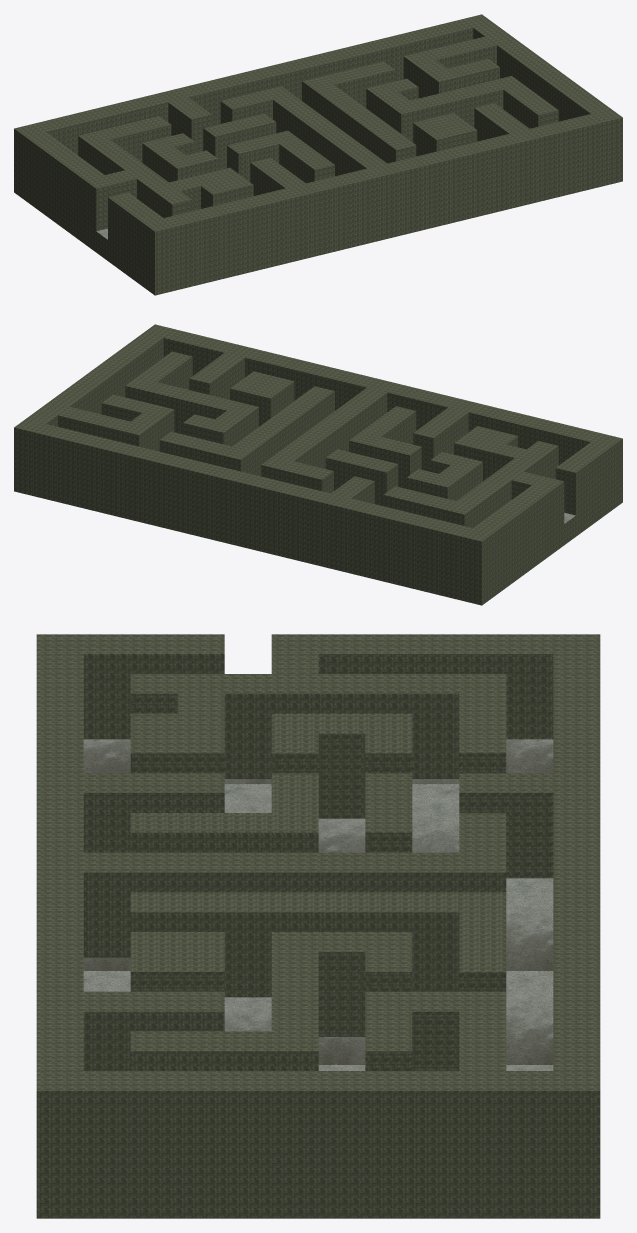
File: MapaVideojoc.fbx
The picture shows the model from 3 angles, top to bottom: view 1: azimuth 30°, elevation 25°; view 2: azimuth 150°, elevation 25°; view 3: azimuth 270°, elevation 25°; orthographic projection. The views are drawn at different scales.
Visible parts, largest first — view 1: pPlane1; view 2: pPlane1; view 3: pPlane1.
Part boxes in pixels (x1,y1,x2,y2): pPlane1: (14,14,622,295); pPlane1: (14,324,622,605); pPlane1: (36,634,600,1218).
Bounding box in the file's own units: 23 × 3 × 12.
2 materials, 2 textured.
